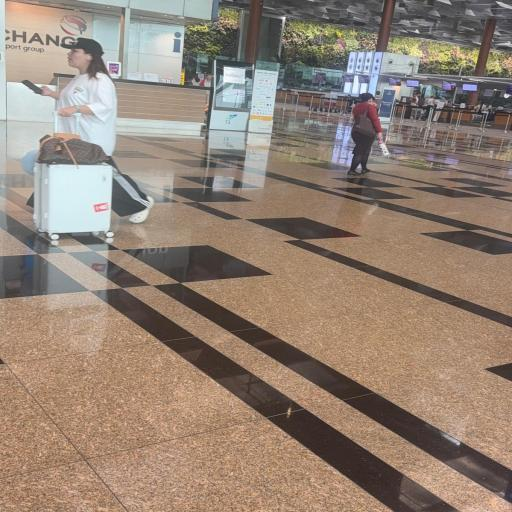person_right: (346, 92, 384, 176)
person_with_luggage_left: (21, 38, 155, 240)
